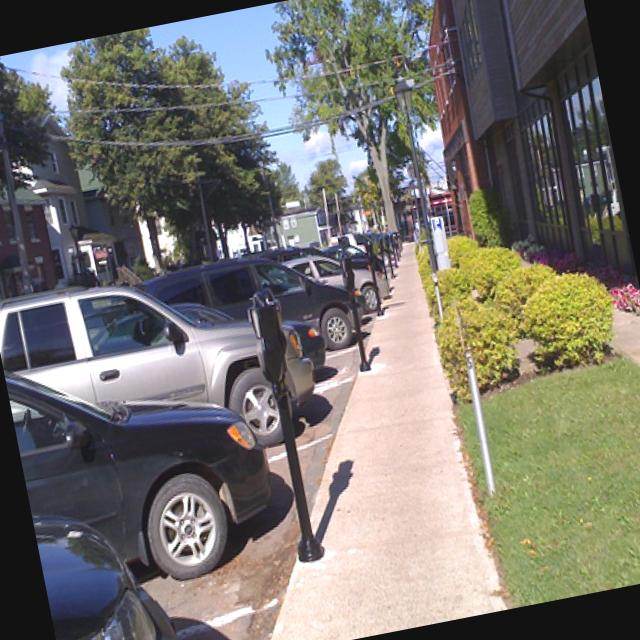Vehicle: (0, 246, 323, 490), (6, 328, 292, 590), (133, 238, 370, 388), (34, 502, 187, 640), (172, 279, 332, 401), (282, 250, 346, 302), (322, 236, 384, 282), (353, 227, 397, 272), (352, 266, 393, 314)
